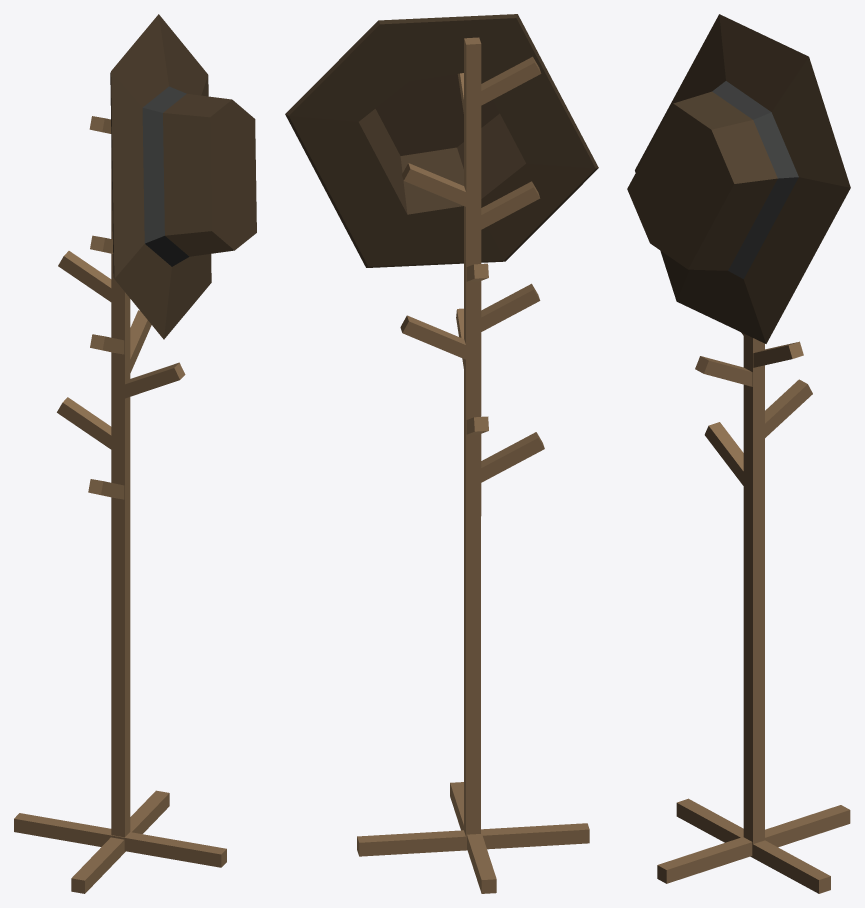
The model's file is HatS.glb.
3 views of the same model, side by side, from view 1: azimuth 30°, elevation 25°; view 2: azimuth 150°, elevation 25°; view 3: azimuth 270°, elevation 25° (orthographic). The views are drawn at different scales.
Visible parts, largest first — view 1: HatStand; view 2: HatStand; view 3: HatStand.
Part boxes in pixels (x1,y1,x2,y2): HatStand: (14, 14, 256, 893); HatStand: (285, 14, 598, 893); HatStand: (627, 14, 850, 893).
Bounding box in the file's own units: 0.5836 × 2.07 × 0.5067.
1 material, 1 textured.
